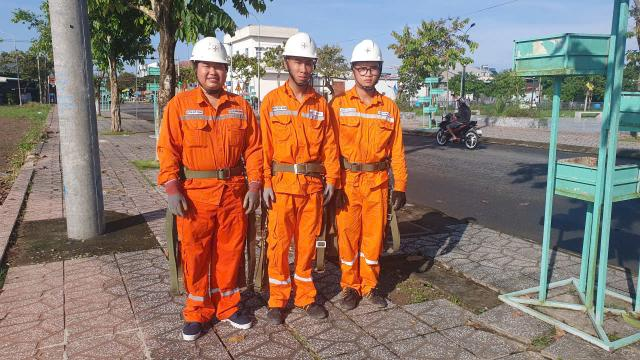gloves: (160, 177, 188, 220), (240, 180, 264, 215), (377, 187, 410, 212), (258, 176, 276, 210), (331, 183, 348, 212), (320, 180, 333, 205)
harness: (170, 156, 252, 188), (269, 152, 329, 182), (336, 149, 394, 175)
helmet: (184, 34, 237, 68), (280, 27, 322, 64), (344, 34, 392, 66)
shoes: (289, 292, 334, 324), (362, 279, 390, 316), (215, 308, 252, 332), (183, 312, 208, 346), (261, 300, 289, 326), (336, 284, 358, 313)
